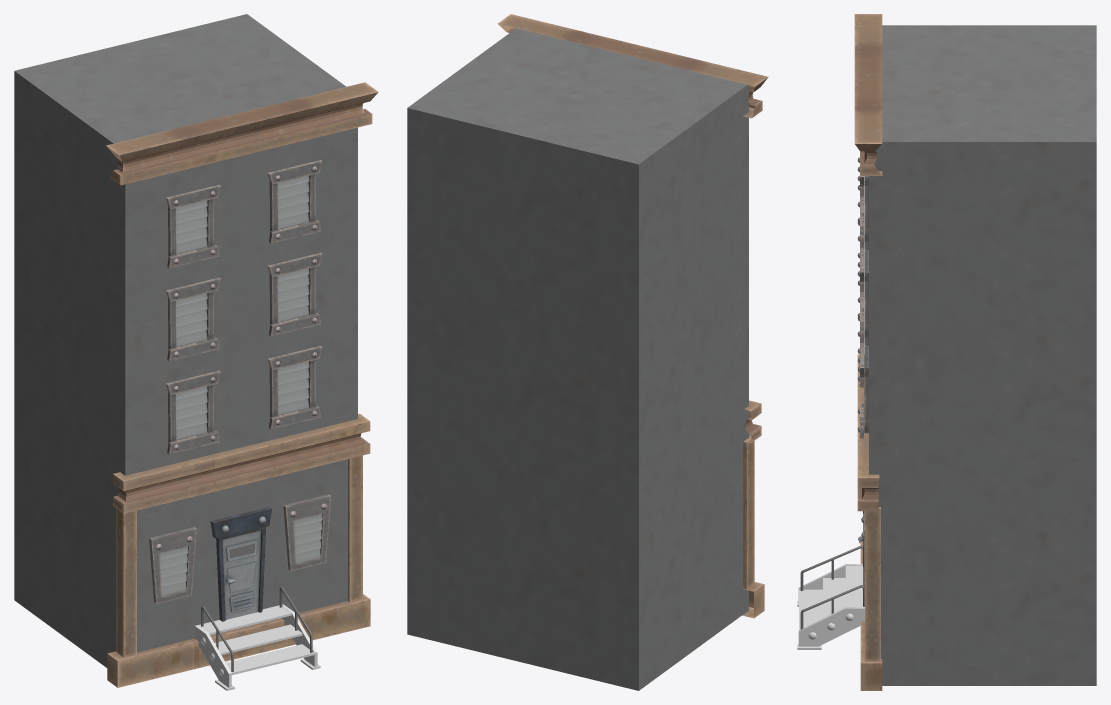
Rendered from Ev_Alleybuilding_4.fbx.
The picture shows the model from 3 angles, left to right: view 1: azimuth 30°, elevation 25°; view 2: azimuth 150°, elevation 25°; view 3: azimuth 270°, elevation 25°; orthographic projection. The views are drawn at different scales.
Visible parts, largest first — view 1: Object075, Box894, P_Frame_103, P_Frame_102, P_Frame_101, P_Door_008, stair6, P_Window_205, P_Window_085, P_Window_207, P_Window_084, P_Window_204 (+5 smaller); view 2: Object075, Box894, P_Frame_103, P_framelong_030, P_Frame_101; view 3: Object075, Box894, P_Frame_103, stair6, P_framelong_031, P_Frame_102, P_Frame_101, P_Window_085, P_Window_205, P_Window_207.
Boxes of the visible parts, <box> form: Object075: <box>14,14,357,478</box>; Box894: <box>14,407,347,667</box>; P_Frame_103: <box>106,82,378,185</box>; P_Frame_102: <box>113,413,370,513</box>; P_Frame_101: <box>107,594,370,687</box>; P_Door_008: <box>210,507,271,621</box>; stair6: <box>194,604,320,690</box>; P_Window_205: <box>267,253,322,336</box>; P_Window_085: <box>267,346,322,429</box>; P_Window_207: <box>267,160,322,243</box>; P_Window_084: <box>166,370,220,454</box>; P_Window_204: <box>166,277,220,361</box>; Object075: <box>407,28,748,498</box>; Box894: <box>407,420,748,690</box>; P_Frame_103: <box>498,14,768,118</box>; P_framelong_030: <box>743,435,754,589</box>; P_Frame_101: <box>742,582,764,618</box>; Object075: <box>869,25,1096,487</box>; Box894: <box>878,487,1096,685</box>; P_Frame_103: <box>854,14,882,175</box>; stair6: <box>797,564,864,649</box>; P_framelong_031: <box>865,507,880,660</box>; P_Frame_102: <box>857,354,879,511</box>; P_Frame_101: <box>860,541,882,690</box>; P_Window_085: <box>857,343,868,438</box>; P_Window_205: <box>857,248,868,343</box>; P_Window_207: <box>857,157,868,247</box>.
Bounding box in the file's own units: 32.8 × 64.67 × 31.96.
